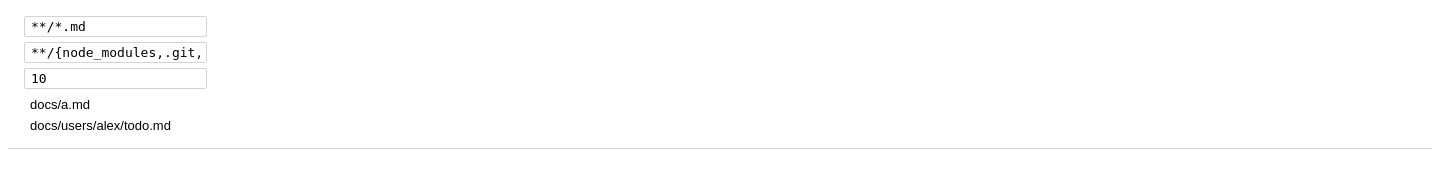
Test: FilesDrawer › clearing the exclude box surfaces the derived-dir files after the debounce
The width and height of the screenshot is (1440, 187).
Clear the field with test id "files-drawer-exclude" at (116,52), box [24,42,207,63]
Wait 200 ms
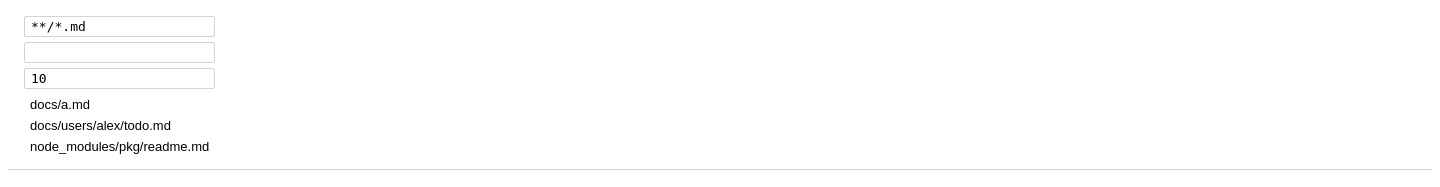
Now the list with test id "files-drawer-list" shows "node_modules/pkg/readme.md", box [24,137,215,156]
